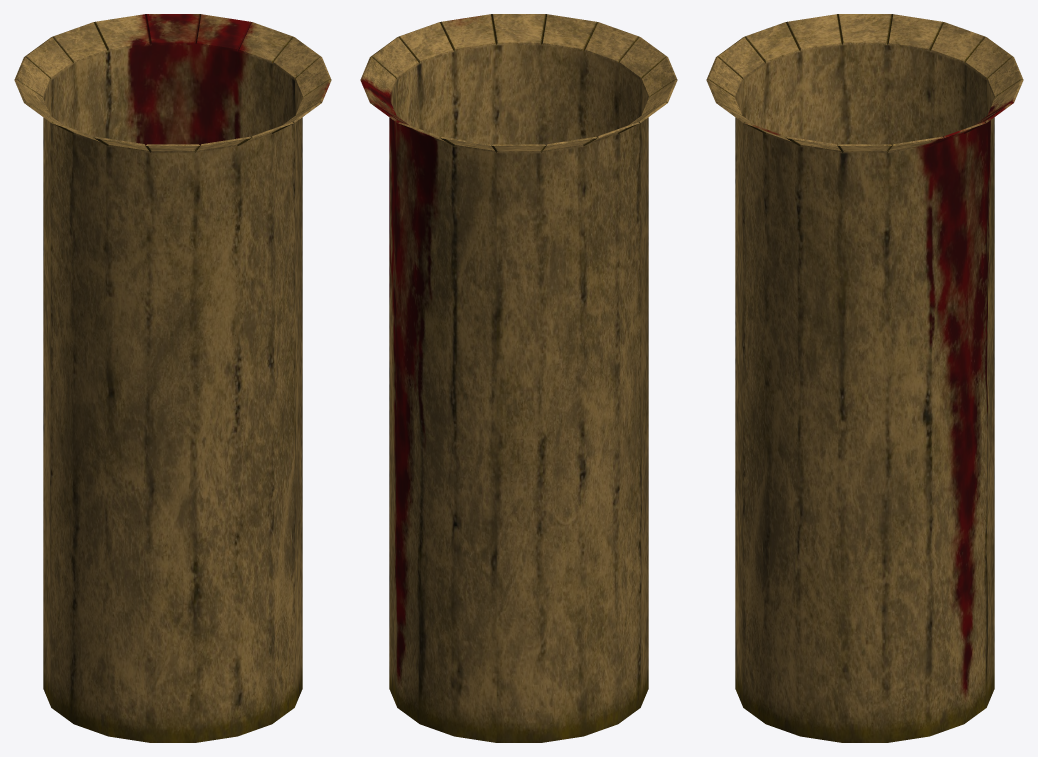
Rendered from posooo.FBX.
3 views of the same model, side by side, from view 1: azimuth 30°, elevation 25°; view 2: azimuth 150°, elevation 25°; view 3: azimuth 270°, elevation 25° (orthographic).
Parts seen in each view (by area): view 1: Cylinder001; view 2: Cylinder001; view 3: Cylinder001.
Boxes of the visible parts, box(x1,y1,x2,y2) form: Cylinder001: box(14, 14, 331, 742); Cylinder001: box(360, 14, 677, 742); Cylinder001: box(706, 14, 1023, 742).
Bounding box in the file's own units: 49.68 × 107 × 50.45.
